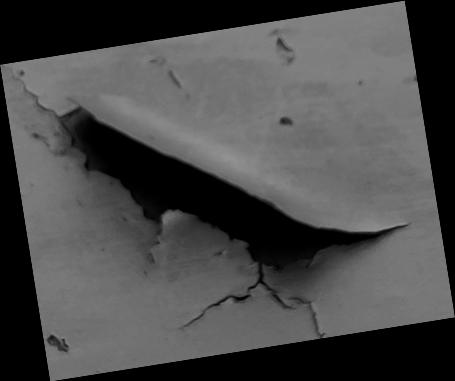paint-off: (1, 0, 455, 380)
